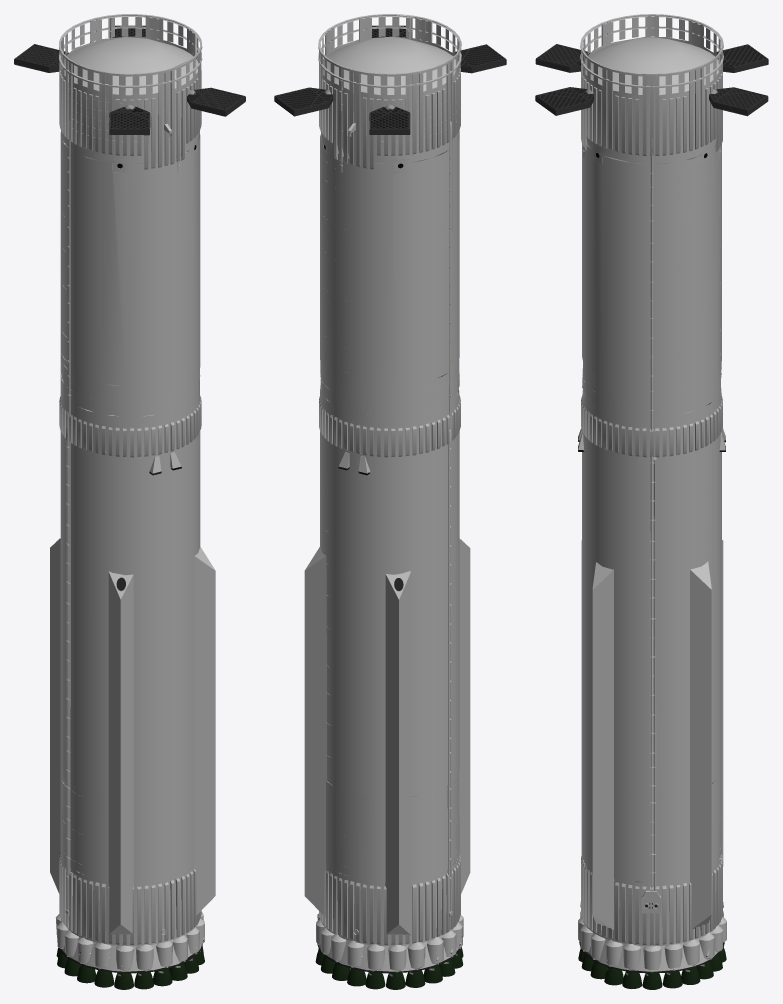
File: booster.glb
The picture shows the model from 3 angles, left to right: view 1: azimuth 30°, elevation 25°; view 2: azimuth 150°, elevation 25°; view 3: azimuth 270°, elevation 25°; orthographic projection.
Visible parts, largest first — view 1: Object_136, Object_137, Object_169, Object_148; view 2: Object_136, Object_137, Object_169, Object_148; view 3: Object_136, Object_137, Object_169, Object_148.
Part boxes in pixels (x1,y1,x2,y2): Object_136: (50,14,215,971); Object_137: (59,14,202,882); Object_169: (14,25,245,135); Object_148: (56,946,204,989); Object_136: (304,14,470,972); Object_137: (318,15,461,882); Object_169: (274,25,506,134); Object_148: (315,947,463,989); Object_136: (578,14,726,972); Object_137: (580,14,723,882); Object_169: (535,44,768,116); Object_148: (578,947,726,989).
Bounding box in the file's own units: 10.33 × 65.92 × 15.24.
Materials: 20 (1 with a texture image).
